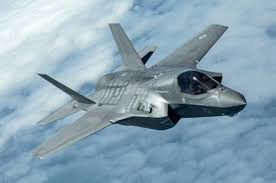fighter: (30, 16, 250, 161)
